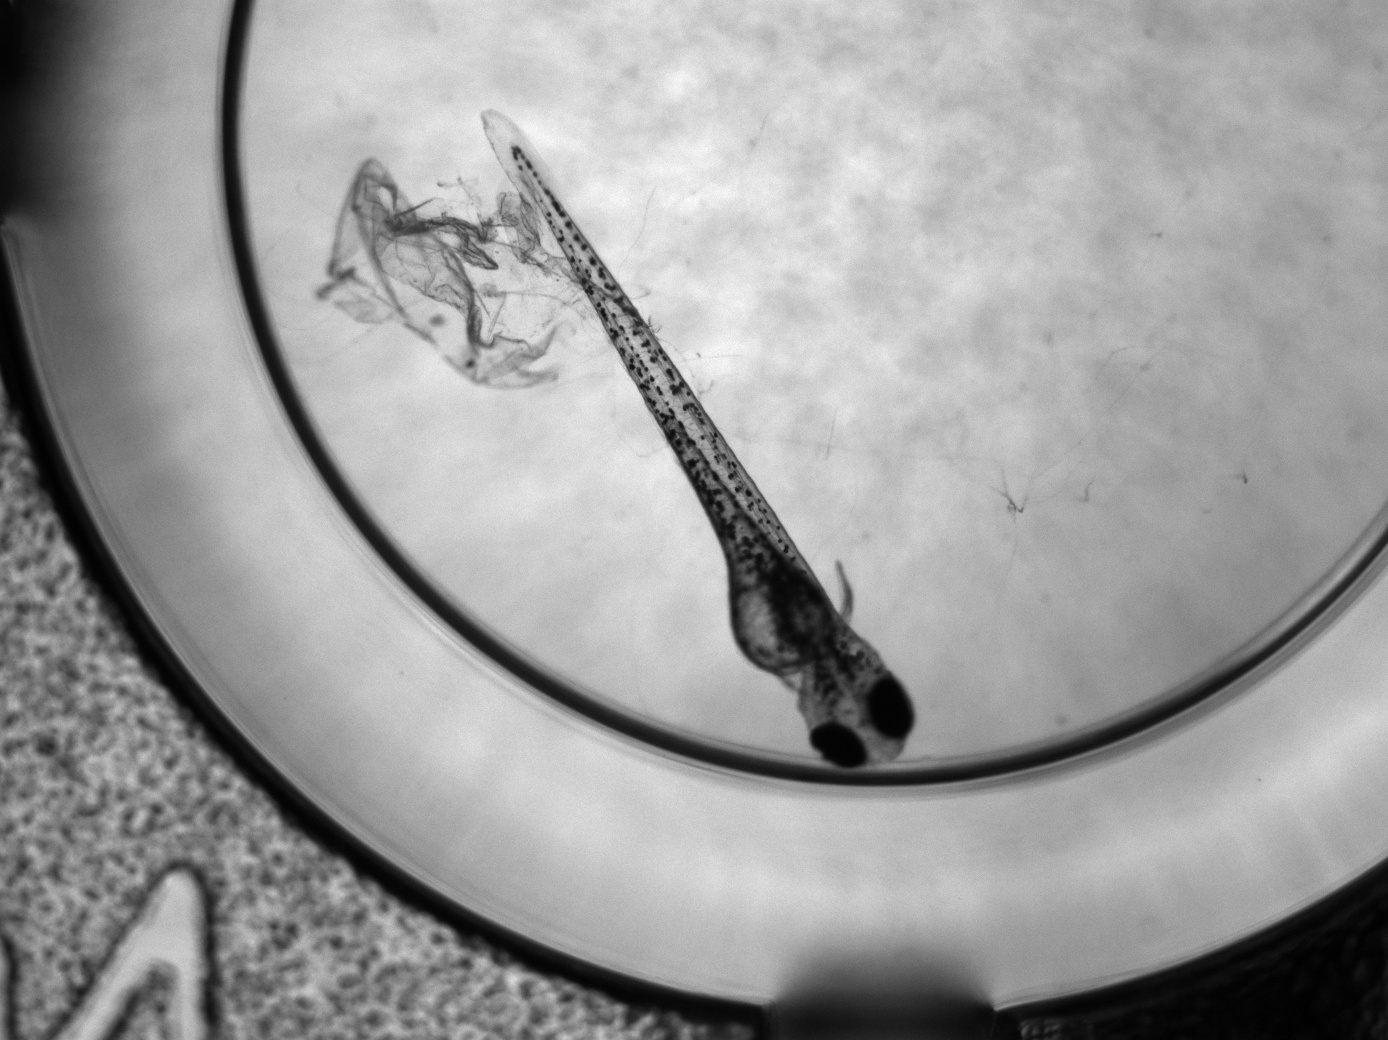debris: (316, 156, 581, 391)
embryo: (510, 142, 915, 767)
eye: (866, 677, 914, 738), (810, 723, 867, 768)
yolksac: (728, 567, 832, 673)
